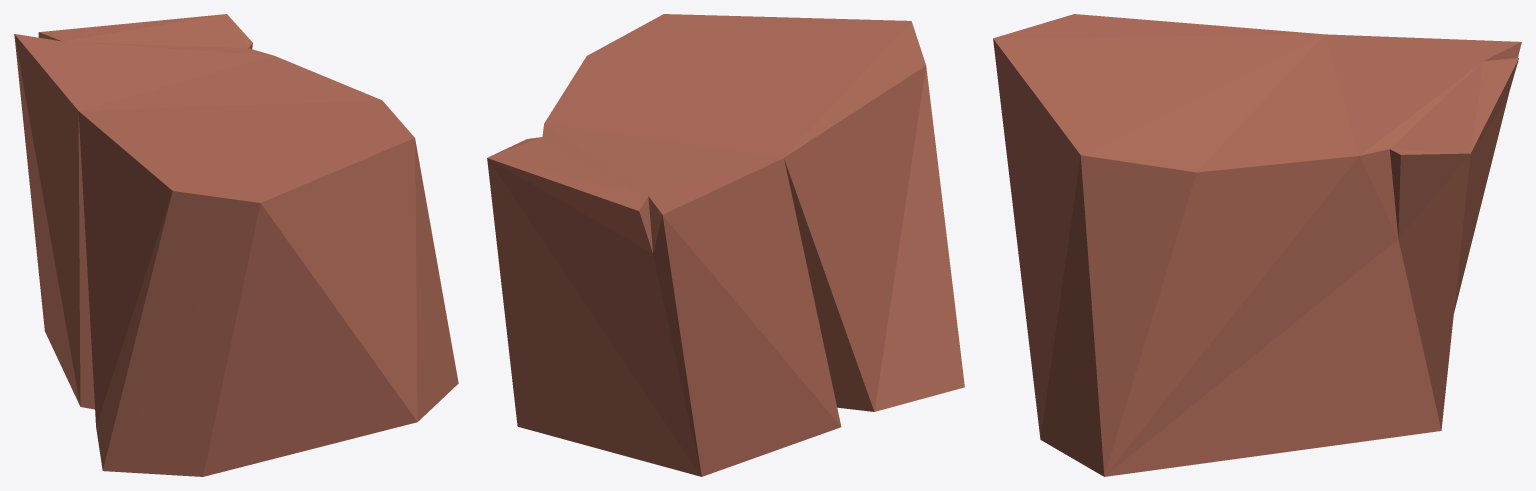
The model's file is rock_025.fbx.
The picture shows the model from 3 angles, left to right: view 1: azimuth 30°, elevation 25°; view 2: azimuth 150°, elevation 25°; view 3: azimuth 270°, elevation 25°; orthographic projection. The views are drawn at different scales.
Parts seen in each view (by area): view 1: rock_025; view 2: rock_025; view 3: rock_025.
Part boxes in pixels (<box>): rock_025: <box>14,14,458,476</box>; rock_025: <box>487,14,964,476</box>; rock_025: <box>993,14,1521,476</box>.
Bounding box in the file's own units: 249 × 294 × 190.
